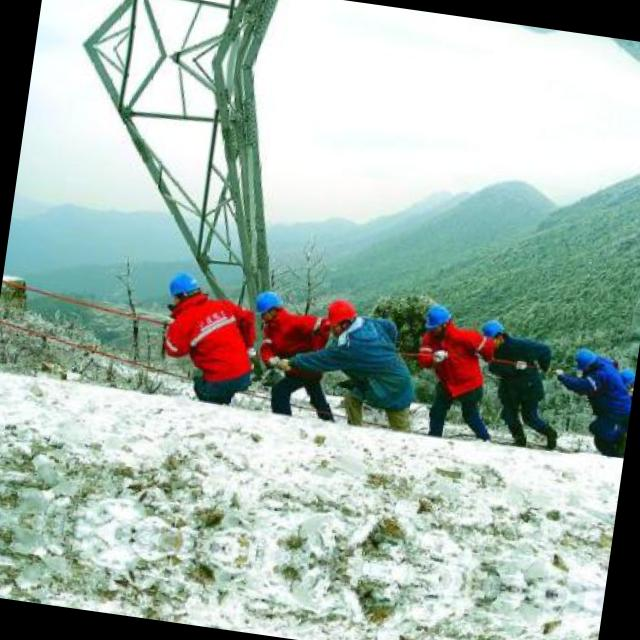helmet: (162, 264, 205, 309), (318, 295, 360, 338), (248, 286, 284, 324), (419, 302, 457, 337), (475, 314, 508, 346), (567, 341, 600, 373), (612, 361, 634, 389)
